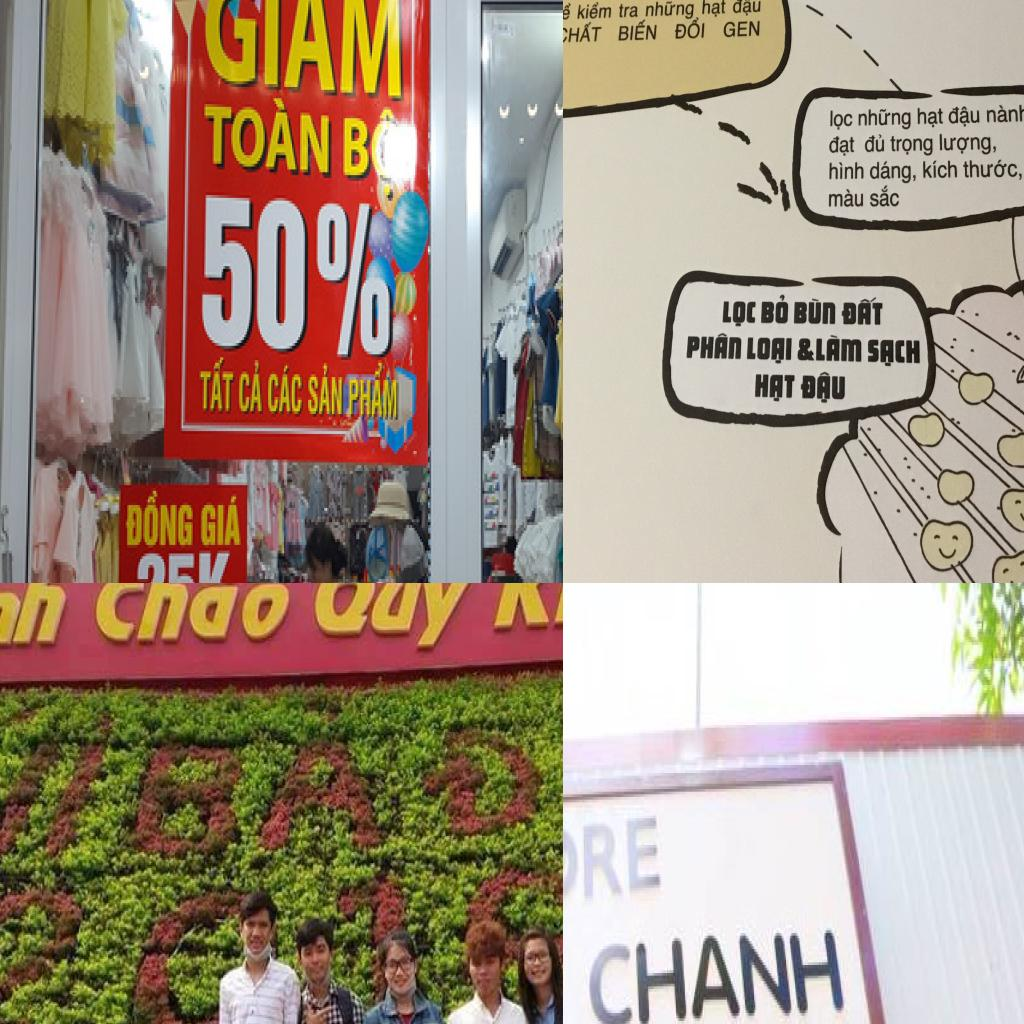text: (197, 0, 408, 107), (202, 186, 313, 354), (314, 195, 396, 369), (90, 583, 298, 649), (196, 87, 334, 184), (309, 583, 484, 657), (563, 810, 666, 919), (0, 583, 73, 652), (126, 488, 194, 551), (346, 363, 400, 428), (132, 550, 233, 583), (198, 491, 246, 548), (338, 107, 372, 181), (305, 366, 345, 422), (198, 357, 234, 417), (682, 328, 742, 363), (866, 336, 922, 371), (268, 363, 303, 417), (935, 130, 999, 156), (238, 357, 264, 420), (815, 334, 865, 366), (745, 335, 793, 367), (752, 370, 796, 404), (857, 105, 913, 131), (840, 295, 884, 328), (961, 155, 1019, 179), (792, 297, 838, 325), (888, 132, 934, 158), (867, 159, 912, 183), (720, 300, 758, 328), (615, 19, 658, 43), (644, 0, 695, 20), (984, 101, 1024, 126), (760, 294, 791, 326), (563, 20, 602, 45), (946, 102, 982, 129), (918, 159, 959, 181), (672, 16, 705, 42), (827, 160, 865, 182), (828, 186, 864, 209), (720, 19, 762, 38), (868, 186, 900, 210), (826, 107, 855, 133), (914, 106, 945, 129), (826, 135, 854, 159), (576, 2, 612, 20), (731, 0, 762, 18), (862, 132, 887, 154), (700, 0, 726, 18), (796, 337, 814, 363), (616, 2, 639, 20), (563, 2, 572, 21)
